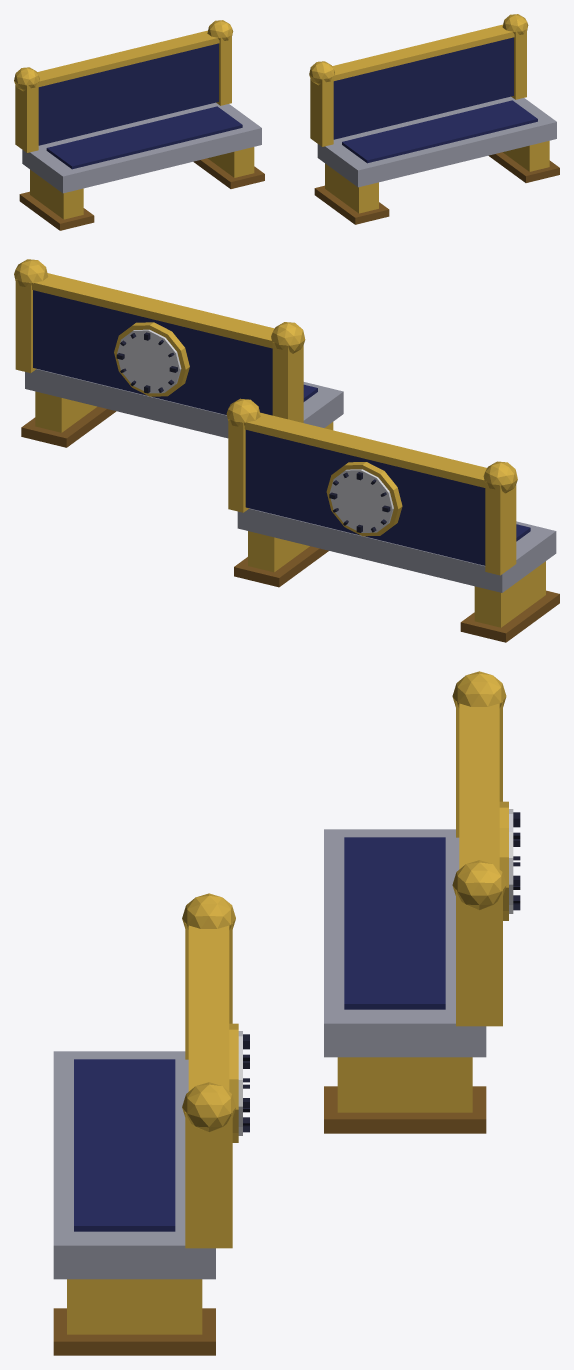
File: Decor_ClockTower_SandBenches.fbx
3 renders of one model, top to bottom at view 1: azimuth 30°, elevation 25°; view 2: azimuth 150°, elevation 25°; view 3: azimuth 270°, elevation 25°, orthographic. The views are drawn at different scales.
Visible parts, largest first — view 1: SandBenches_Body; view 2: SandBenches_Body; view 3: SandBenches_Body.
Part boxes in pixels (<box>): SandBenches_Body: <box>14,14,559,230</box>; SandBenches_Body: <box>14,259,559,642</box>; SandBenches_Body: <box>53,671,520,1355</box>.
Size of the model in its own units: 15 by 4.3 by 6.85.
